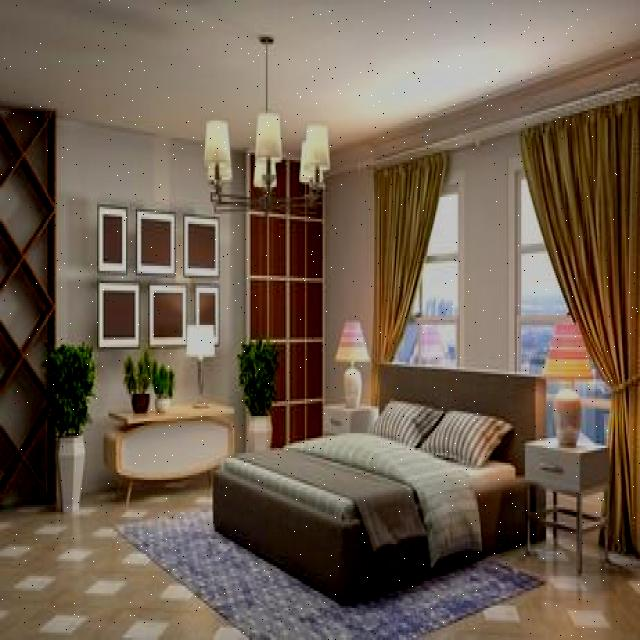bed: (215, 372, 538, 566)
